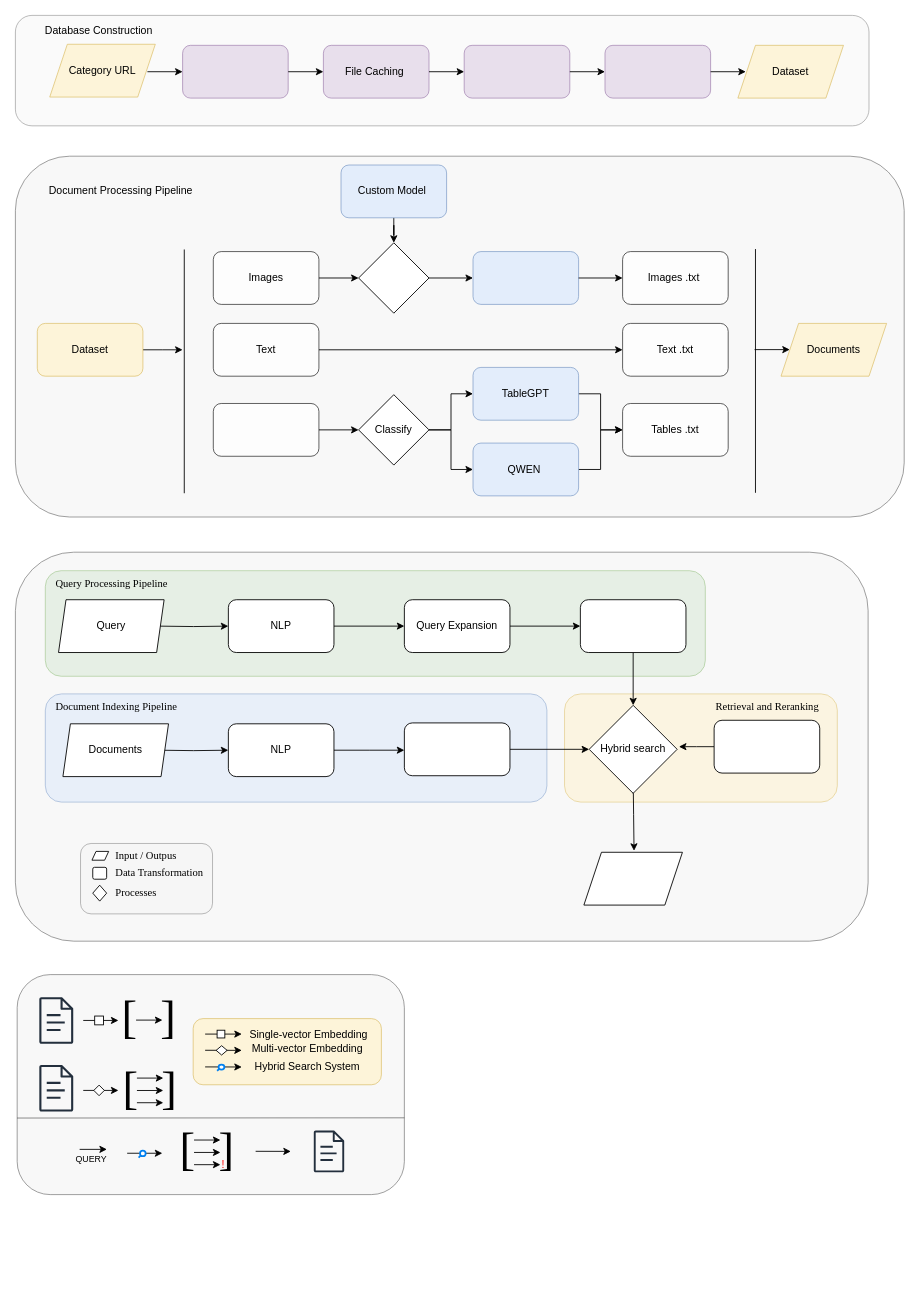
The diagram is 920 pixels wide and 1304 high, and some of its shapes have lost their labels. The centre of each missing label's shape, as x and y in pixels:
"Integrity Check" goes at (x=657, y=71).
"Llama 3.1 Vision" goes at (x=525, y=277).
"Multi-vector representation" goes at (x=456, y=749).
"Pdf Extraction" goes at (x=516, y=71).
"Pre-filter" goes at (x=393, y=277).
"Retrieval" goes at (x=632, y=878).
"Search on VSM & BM25" goes at (x=766, y=746).
"Semantic Parsing" goes at (x=632, y=626).
"Tables" goes at (x=265, y=429).
"Web Scraping" goes at (x=235, y=71).
